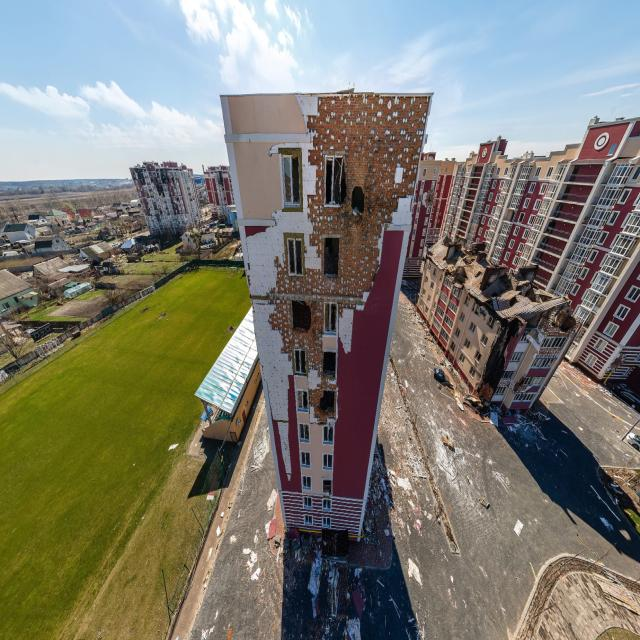broken_window: (279, 149, 302, 209), (324, 154, 345, 207), (286, 234, 304, 277), (323, 236, 340, 277), (291, 299, 311, 331), (323, 301, 337, 334)
building: (219, 88, 435, 540), (128, 159, 202, 240)
roof: (194, 304, 259, 418)
